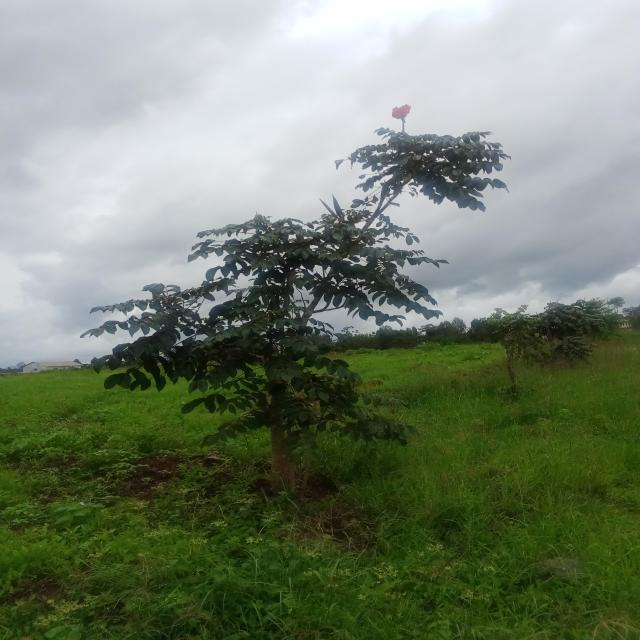Polyscias Kikuyensis: (66, 80, 546, 526)
